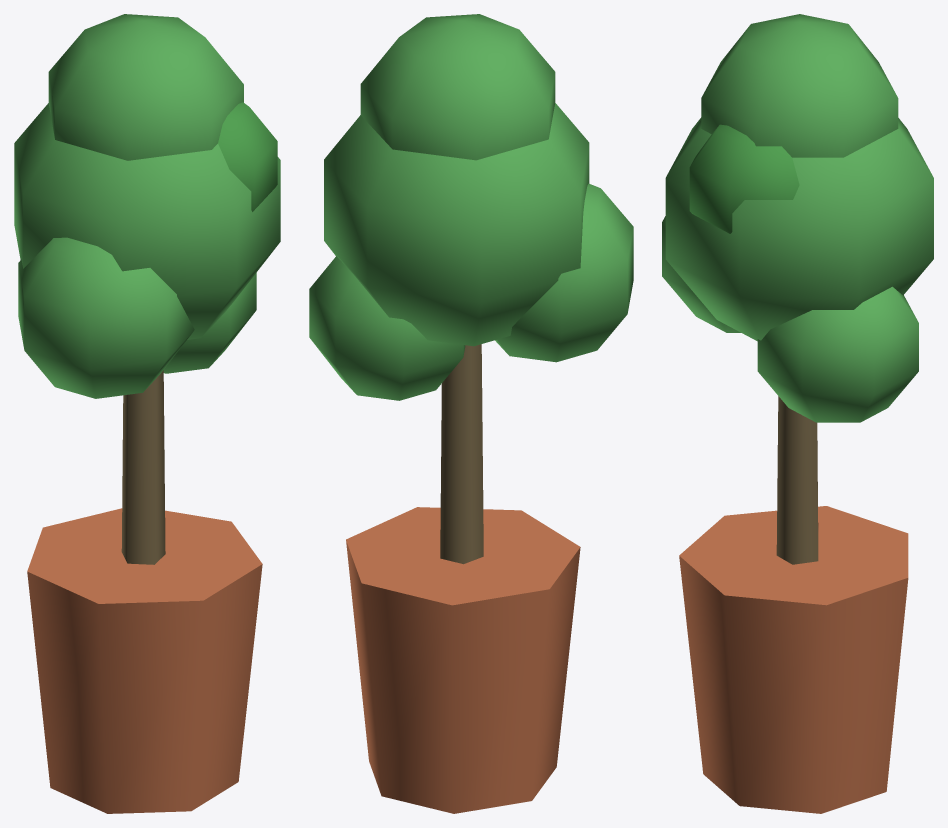
The model's file is plant-tall.glb.
3 views of the same model, side by side, from view 1: azimuth 30°, elevation 25°; view 2: azimuth 150°, elevation 25°; view 3: azimuth 270°, elevation 25° (orthographic).
Parts seen in each view (by area): view 1: Foliage, Pot, Trunk, Foliage2; view 2: Foliage, Pot, Trunk; view 3: Foliage, Pot, Foliage2, Trunk.
Boxes of the visible parts, box(x1,y1,x2,y2) form: Foliage: box(14, 14, 280, 398); Pot: box(27, 508, 262, 813); Trunk: box(121, 370, 165, 564); Foliage2: box(218, 102, 277, 211); Foliage: box(309, 14, 633, 400); Pot: box(346, 507, 580, 813); Trunk: box(440, 344, 483, 564); Foliage: box(662, 14, 933, 422); Pot: box(679, 506, 908, 813); Foliage2: box(689, 124, 799, 233); Trunk: box(776, 396, 818, 564).
Bounding box in the file's own units: 0.6144 × 1.72 × 0.5636.
